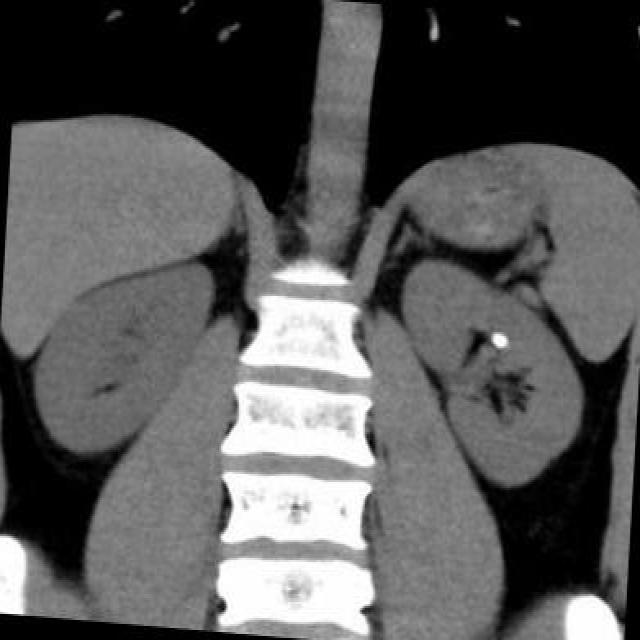Tas_Var: (487, 327, 508, 355)
